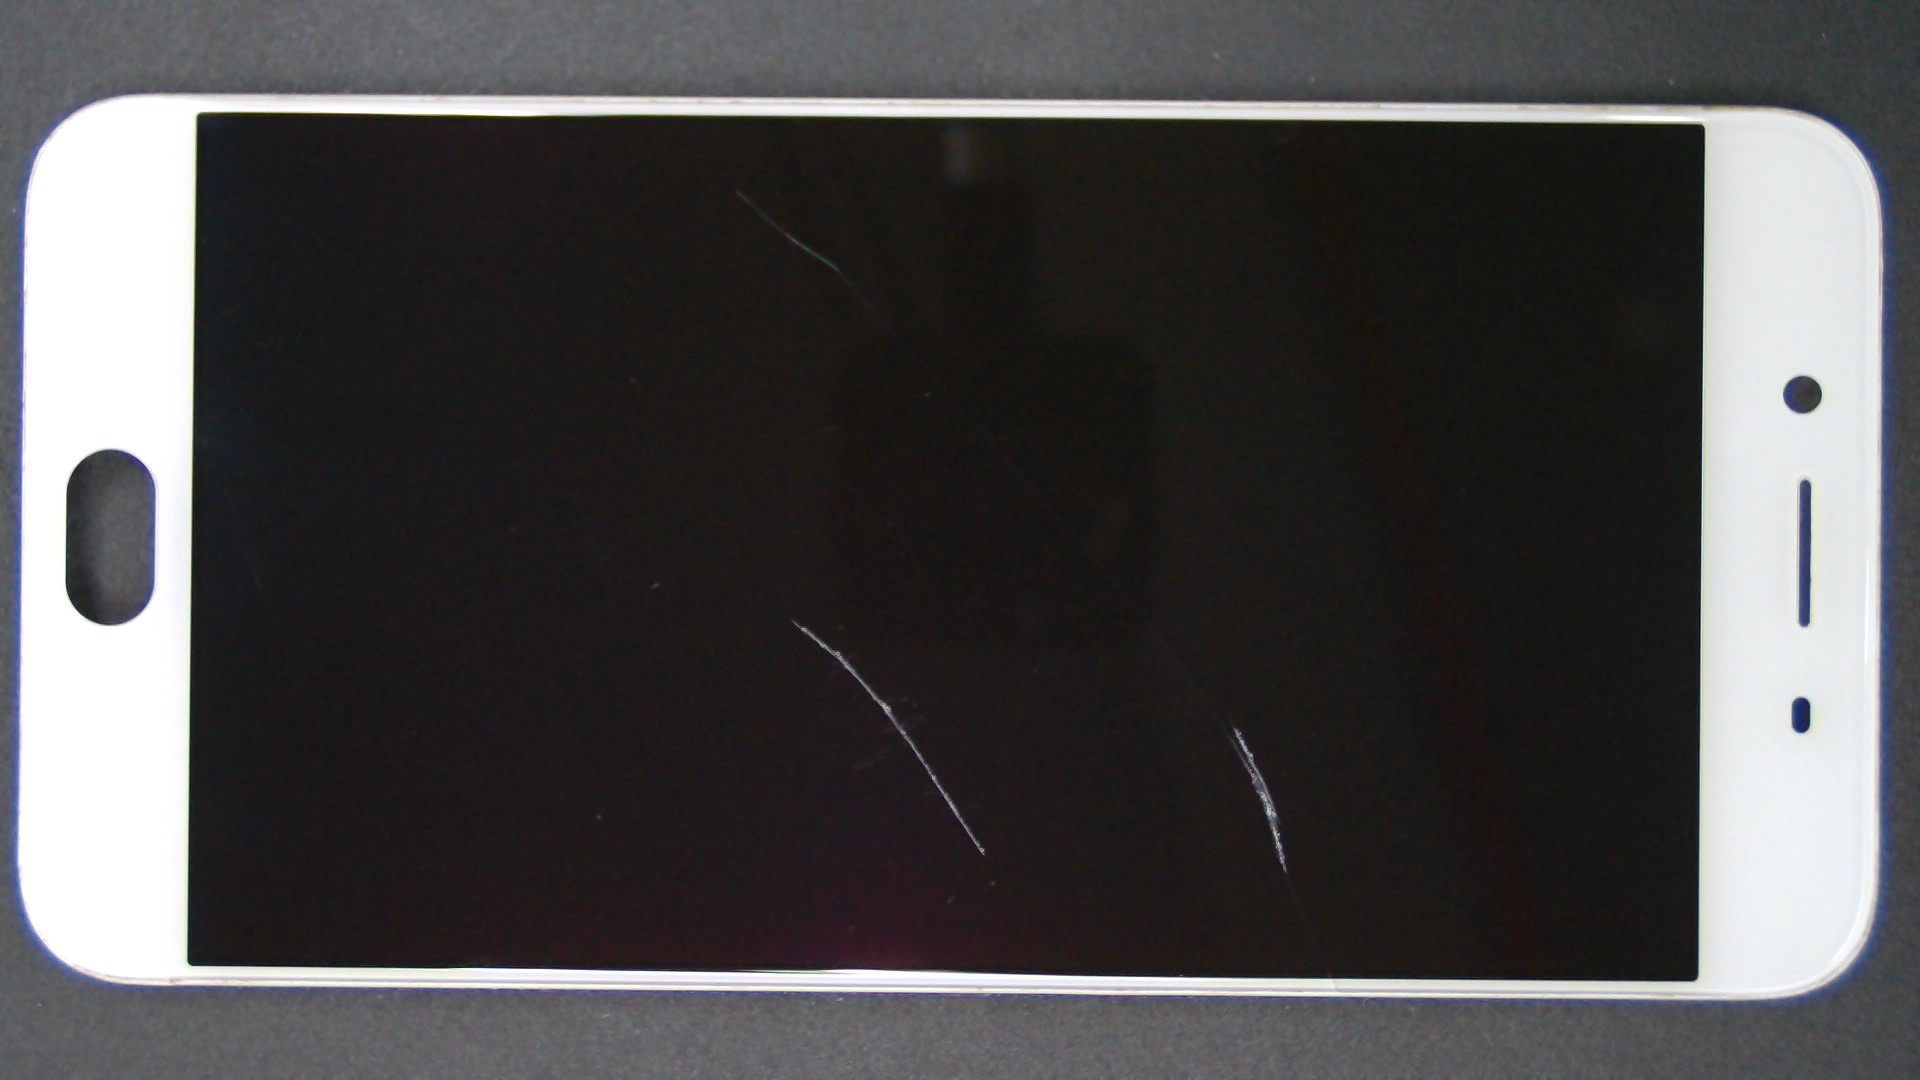oil: (618, 364, 1854, 1080), (397, 310, 1191, 931), (356, 84, 1117, 302)
